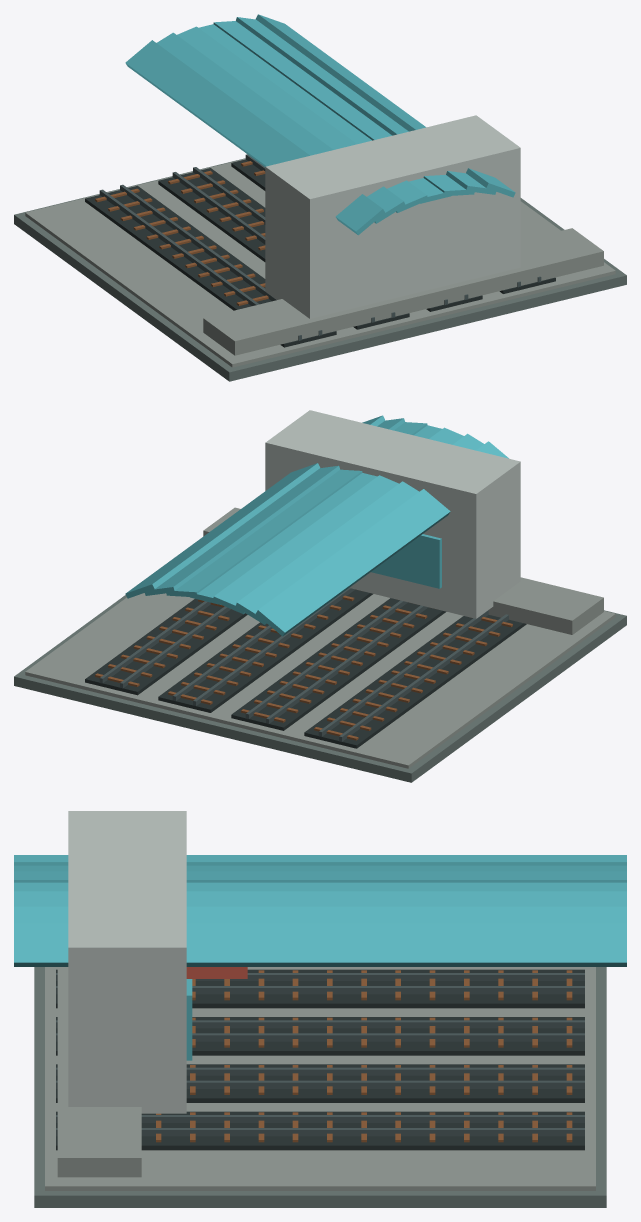
File: train_station_lv2.glb
The picture shows the model from 3 angles, top to bottom: view 1: azimuth 30°, elevation 25°; view 2: azimuth 150°, elevation 25°; view 3: azimuth 270°, elevation 25°; orthographic projection. The views are drawn at different scales.
Parts seen in each view (by area): view 1: rough, glossy, metallic; view 2: rough, glossy, metallic; view 3: rough, glossy, metallic.
Part boxes in pixels (left/top/right/bottom): rough: left=14, top=115, right=626, bottom=381; glossy: left=125, top=14, right=515, bottom=235; metallic: left=99, top=154, right=541, bottom=340; rough: left=14, top=410, right=626, bottom=782; glossy: left=125, top=415, right=508, bottom=636; metallic: left=99, top=588, right=508, bottom=741; rough: left=34, top=811, right=606, bottom=1207; glossy: left=14, top=855, right=626, bottom=1060; metallic: left=56, top=973, right=584, bottom=1136.
Bounding box in the file's own units: 9.8 × 3.54 × 9.85.
